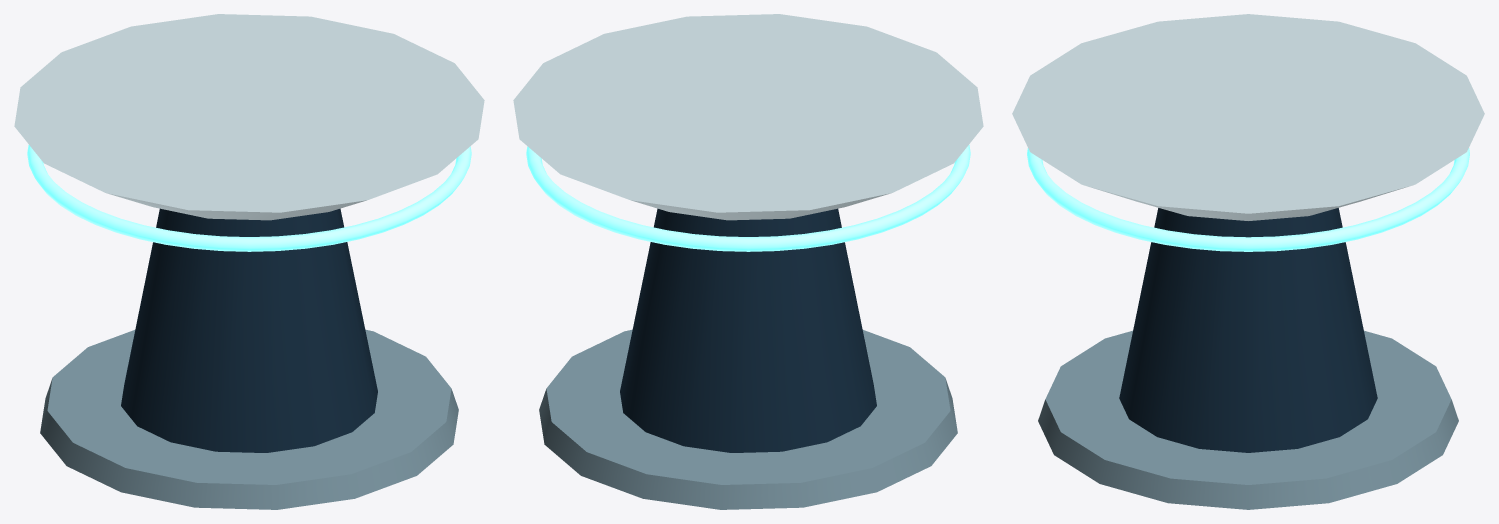
File: tablecoffee.glb
3 views of the same model, side by side, from view 1: azimuth 30°, elevation 25°; view 2: azimuth 150°, elevation 25°; view 3: azimuth 270°, elevation 25° (orthographic).
Visible parts, largest first — view 1: atelier-cyber-tablecoffee; view 2: atelier-cyber-tablecoffee; view 3: atelier-cyber-tablecoffee.
Boxes of the visible parts, left/top/right/bottom form: atelier-cyber-tablecoffee: left=14, top=14, right=484, bottom=509; atelier-cyber-tablecoffee: left=513, top=14, right=983, bottom=509; atelier-cyber-tablecoffee: left=1012, top=14, right=1484, bottom=509.
Bounding box in the file's own units: 1.4 × 1 × 1.4.
